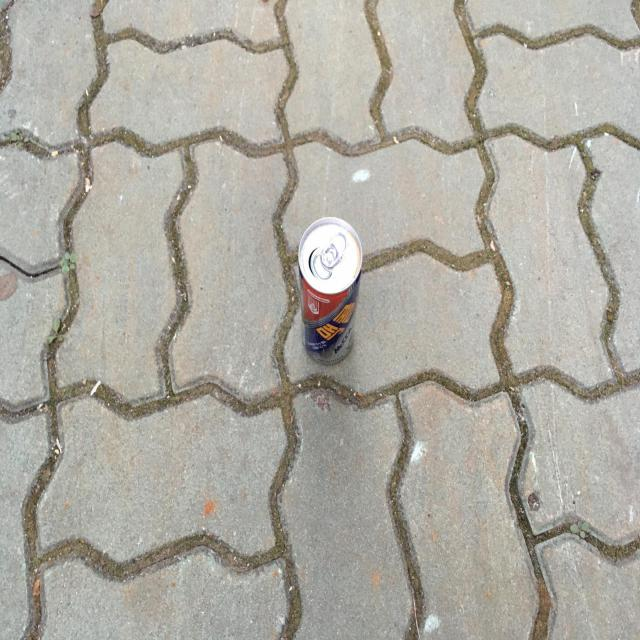can: (299, 217, 362, 364)
